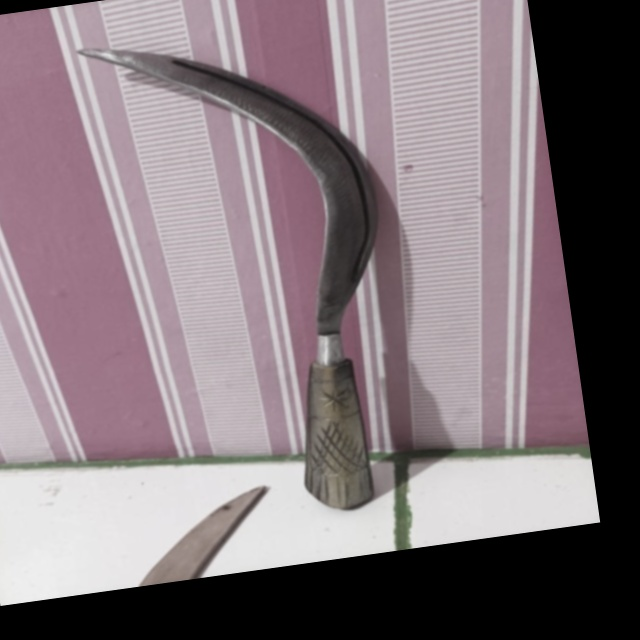Sharp-Object: (70, 0, 413, 549)
